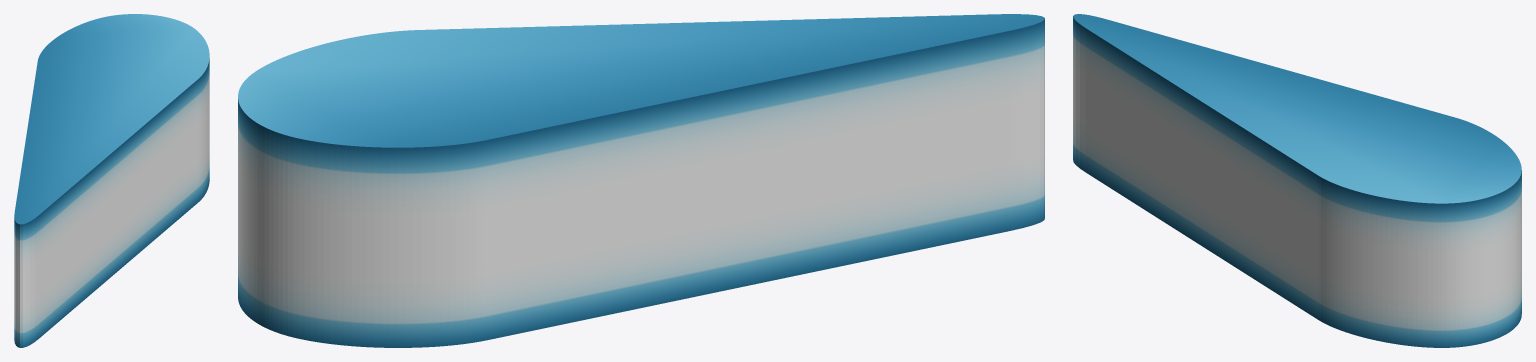
Rendered from flipper.obj.
3 renders of one model, left to right at view 1: azimuth 30°, elevation 25°; view 2: azimuth 150°, elevation 25°; view 3: azimuth 270°, elevation 25°, orthographic. The views are drawn at different scales.
Visible parts, largest first — view 1: Cube; view 2: Cube; view 3: Cube.
Part boxes in pixels (<box>): Cube: <box>14,14,209,347</box>; Cube: <box>238,14,1044,347</box>; Cube: <box>1073,14,1521,347</box>.
Size of the model in its own units: 5.63 by 2 by 5.63.
Materials: 1 (1 with a texture image).
